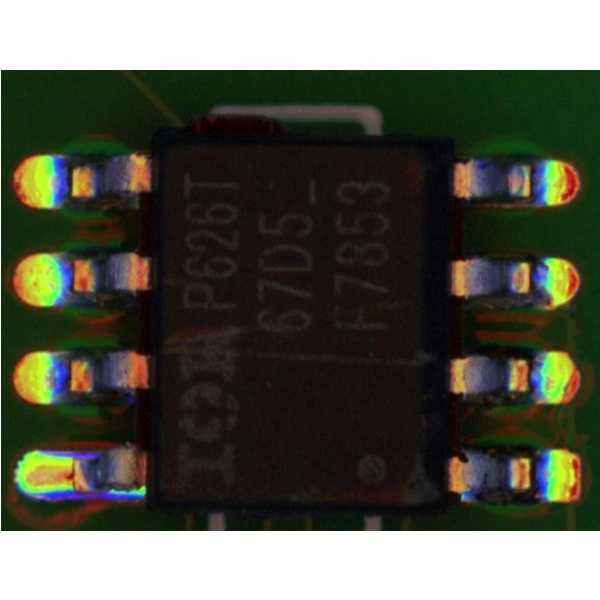Bad_podu: (50, 465, 80, 485)
